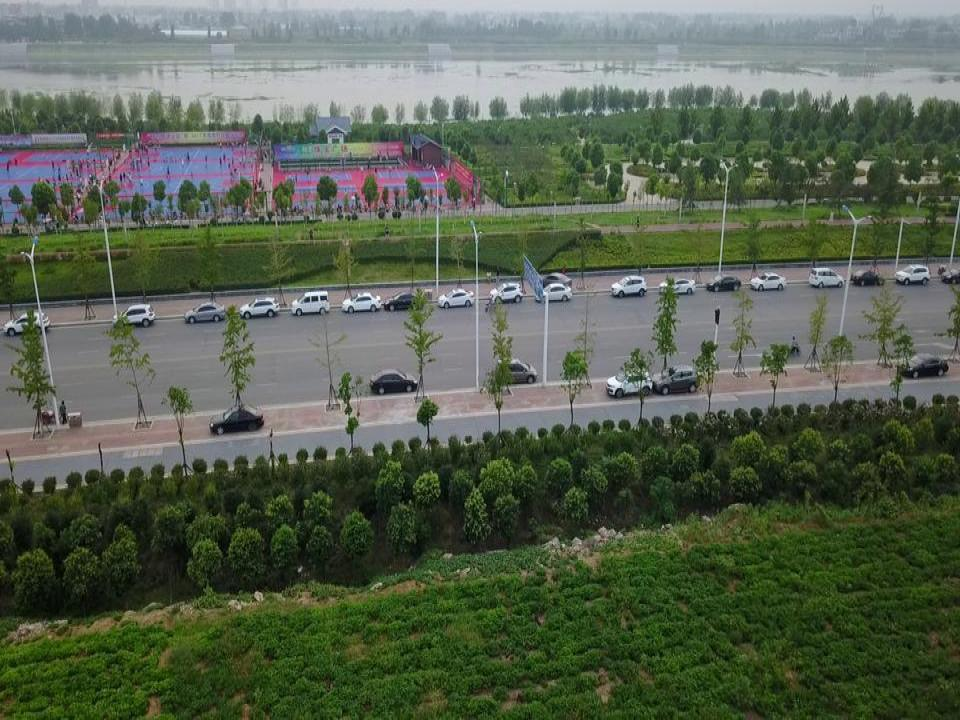car: (208, 404, 264, 435), (897, 350, 948, 378), (368, 368, 417, 395), (183, 300, 226, 323), (238, 296, 280, 319), (383, 289, 424, 312), (341, 291, 382, 313), (610, 275, 647, 297), (437, 287, 475, 308), (535, 282, 572, 302), (658, 276, 696, 295), (705, 273, 742, 292), (749, 272, 786, 291), (850, 269, 885, 287), (538, 272, 572, 289), (941, 267, 960, 284)
van: (650, 364, 700, 395), (605, 368, 652, 396), (2, 311, 51, 337), (494, 357, 537, 384), (111, 304, 156, 327), (290, 290, 330, 314), (487, 281, 523, 304), (894, 263, 930, 285), (808, 267, 844, 288)
